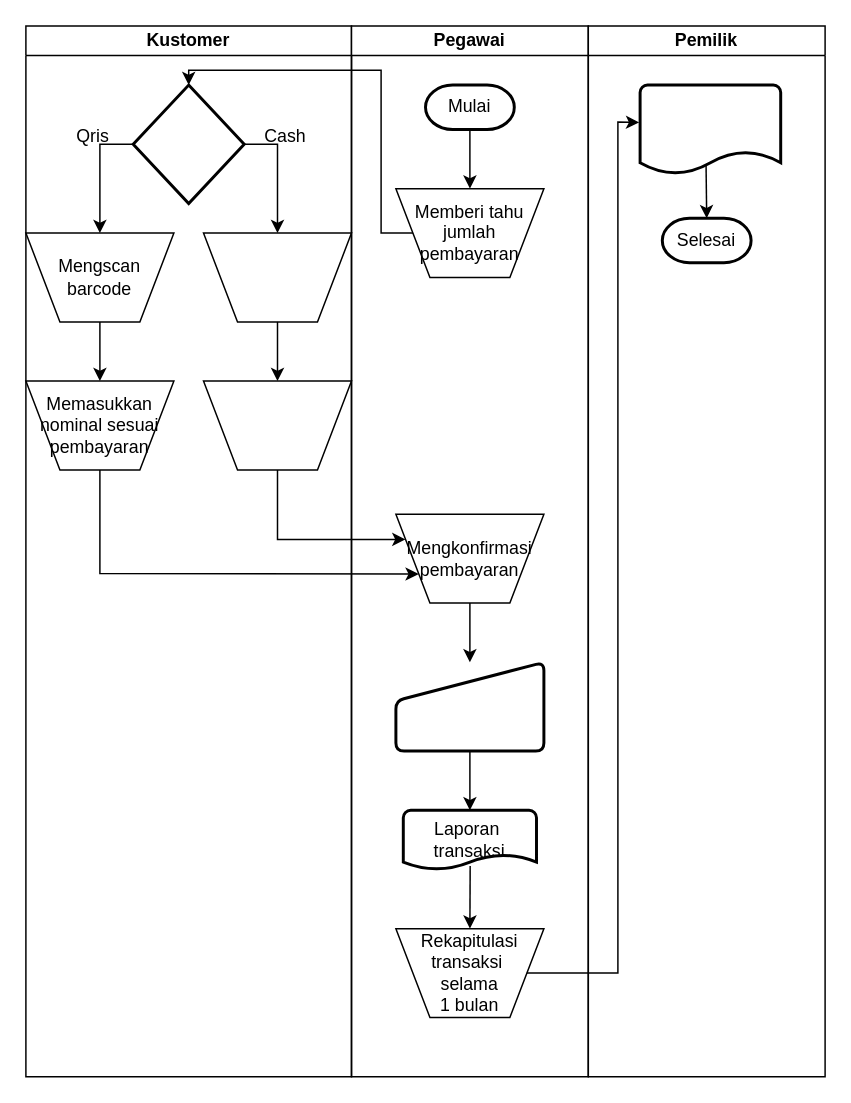
Some shapes in this 851 by 1103 pixel diagram are drawn without their labels. Each missing label, with the centre of its shape:
"Cash atau Qris?" goes at point (188, 143).
"Laporan transaksi dalam sebulan" goes at point (709, 129).
"Mencatat pada laporan transaksi" goes at point (469, 706).
"Menyerahkan nominal sesuai pembayaran" goes at point (277, 425).
"Menyiapkan uang tunai" goes at point (277, 277).
